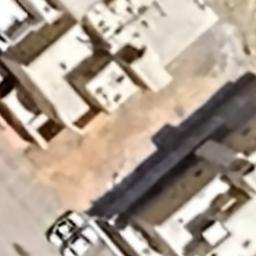sedan: (48, 209, 86, 247), (61, 227, 98, 256)
